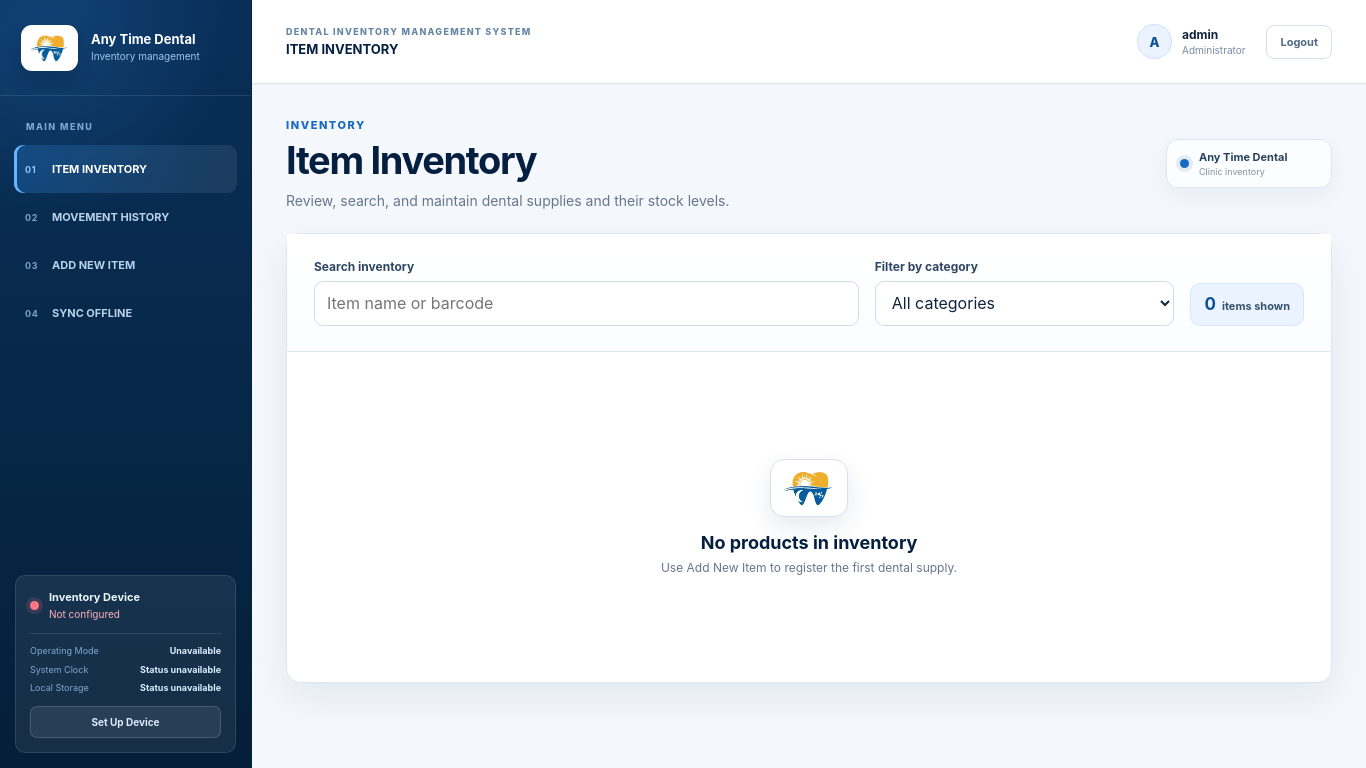
it: clinic device setup › explains when no device is configured and opens the setup form
Expected: the text "Not configured" is shown, [49, 608, 120, 620]
Click the button "Set Up Device" at (126, 722), box [30, 706, 221, 738]
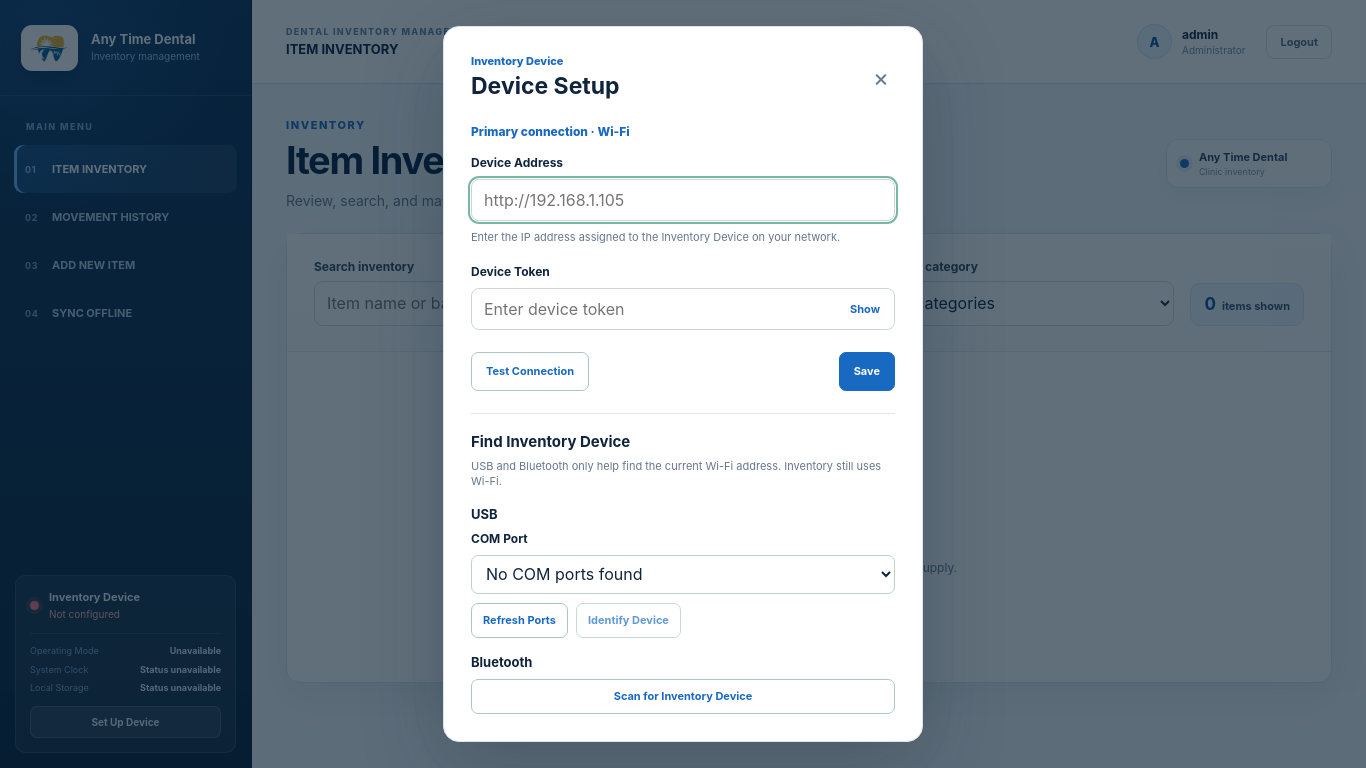
Now the dialog "Device Setup" is shown, box [443, 26, 923, 742]
